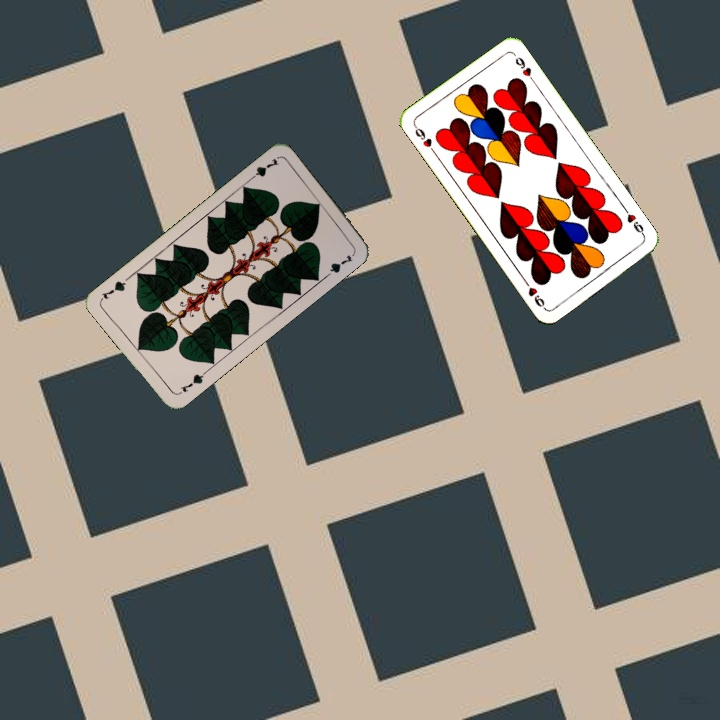G7: (245, 154, 282, 184), (174, 368, 209, 397)
H9: (410, 121, 438, 156), (620, 204, 648, 239)
